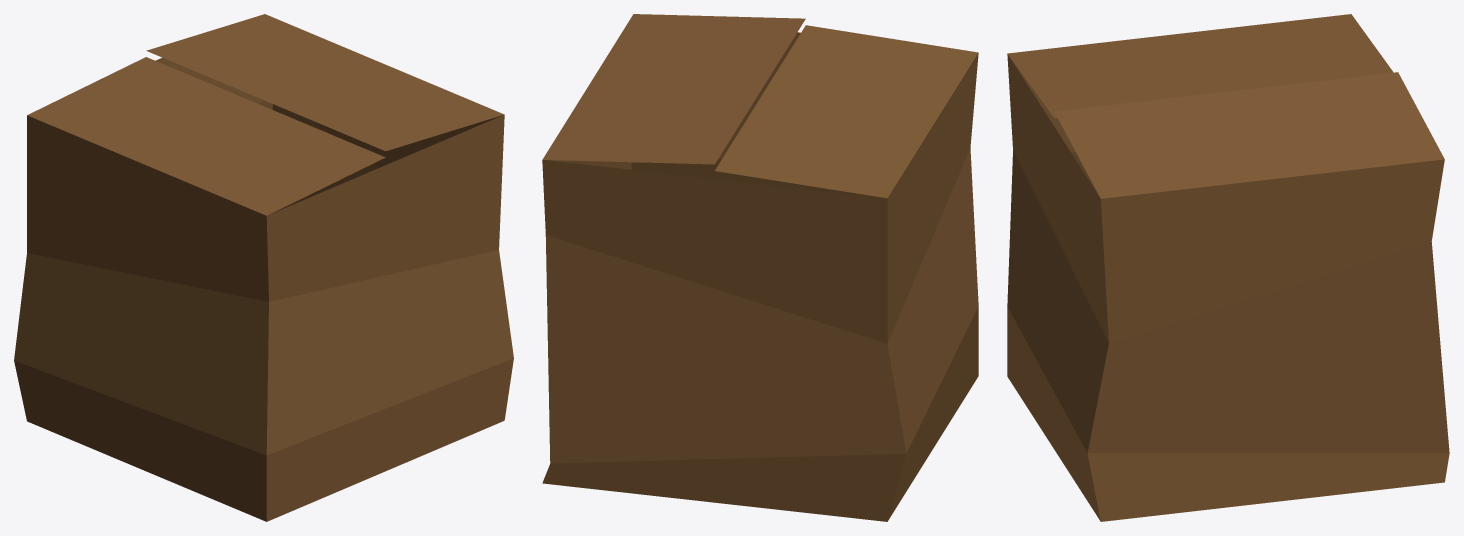
3 views of the same model, side by side, from view 1: azimuth 30°, elevation 25°; view 2: azimuth 150°, elevation 25°; view 3: azimuth 270°, elevation 25° (orthographic). The views are drawn at different scales.
Parts seen in each view (by area): view 1: Cube.020; view 2: Cube.020; view 3: Cube.020.
Boxes of the visible parts, x1,y1,x2,y2 form: Cube.020: (14,14,513,521); Cube.020: (542,14,978,521); Cube.020: (1007,14,1449,521).
Size of the model in its own units: 704 by 570 by 677.
